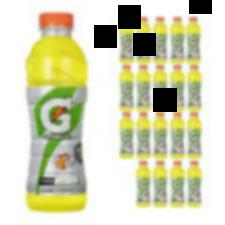gatorade_lemon: (23, 10, 90, 212), (151, 65, 169, 111), (169, 160, 186, 208), (135, 112, 152, 159), (169, 64, 186, 111), (152, 160, 168, 209), (135, 65, 152, 111), (152, 111, 168, 159), (135, 160, 151, 208), (186, 160, 202, 208), (152, 16, 168, 64), (186, 16, 202, 64), (119, 112, 135, 159), (169, 112, 185, 159), (186, 112, 202, 158), (136, 16, 151, 64), (170, 16, 185, 64), (186, 64, 201, 111), (119, 64, 134, 110), (120, 16, 134, 63)
